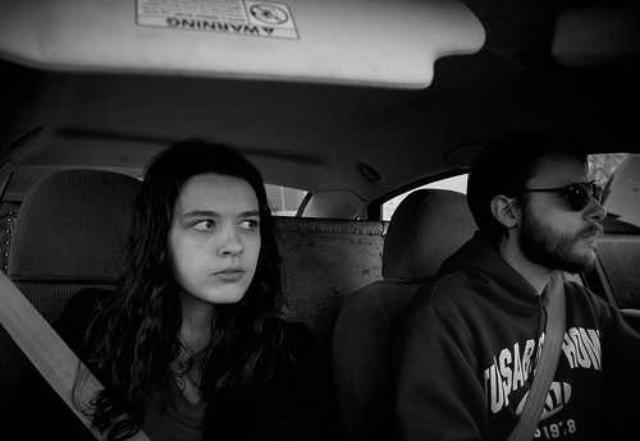SafeDriving: (180, 210, 223, 236), (232, 210, 266, 234)
Seatbelt: (0, 262, 156, 441), (503, 261, 572, 441)
